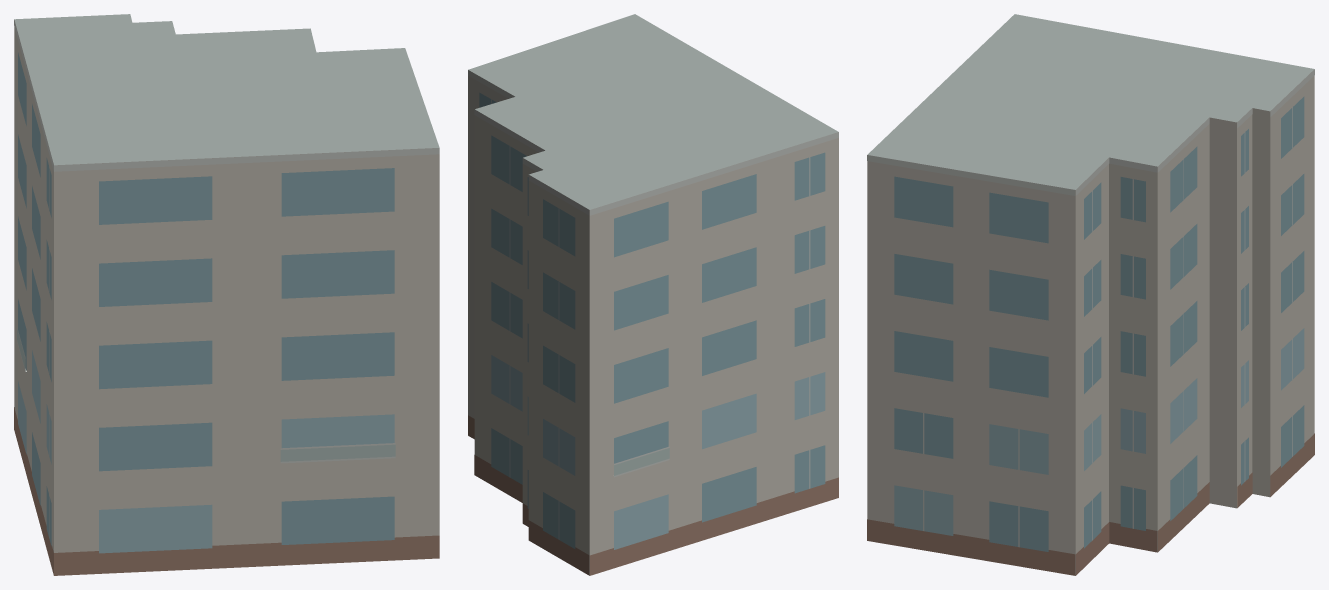
File: survey-upis-32482120.glb
3 views of the same model, side by side, from view 1: azimuth 30°, elevation 25°; view 2: azimuth 150°, elevation 25°; view 3: azimuth 270°, elevation 25° (orthographic). The views are drawn at different scales.
Parts seen in each view (by area): view 1: survey-upis-32482120.tmp; view 2: survey-upis-32482120.tmp; view 3: survey-upis-32482120.tmp.
Part boxes in pixels (x1=…): survey-upis-32482120.tmp: x1=14, y1=14, x2=439, y2=575; survey-upis-32482120.tmp: x1=468, y1=14, x2=838, y2=575; survey-upis-32482120.tmp: x1=867, y1=14, x2=1314, y2=575.
Size of the model in its own units: 14.97 by 15.3 by 16.09.
